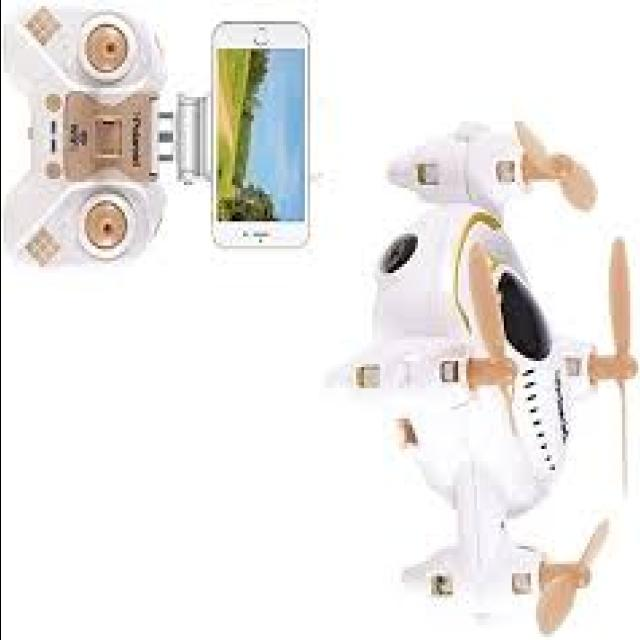drone: (322, 105, 640, 640)
